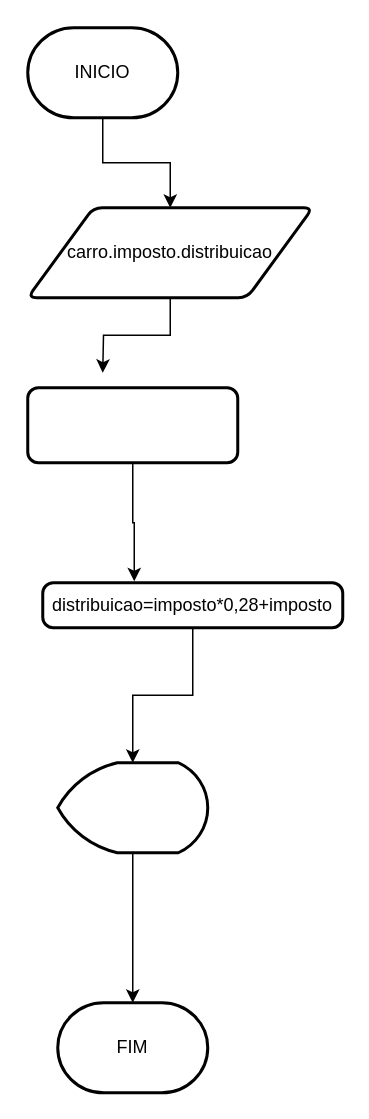
Some shapes in this 369 by 1119 pixel diagram are drawn without their labels. Each missing label, with the centre of its shape:
distribuicao: point 132,807
imposto=carro*0,45+carro: point 132,425
